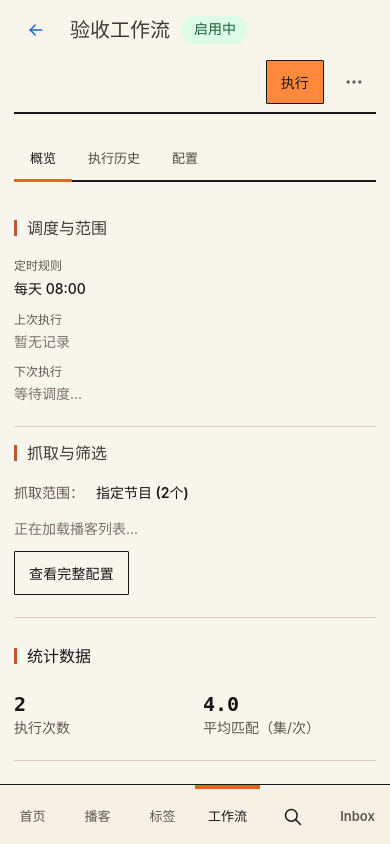
Test: 工作流执行历史可见等待验收 (#34) › 冷态：点击执行历史后首条记录可见，且首屏最多一次摘要请求、无 router 导航
Expected: the text "验收工作流" is shown, [70, 19, 170, 41]
Click the tab "执行历史" at (114, 160), box [72, 138, 156, 182]
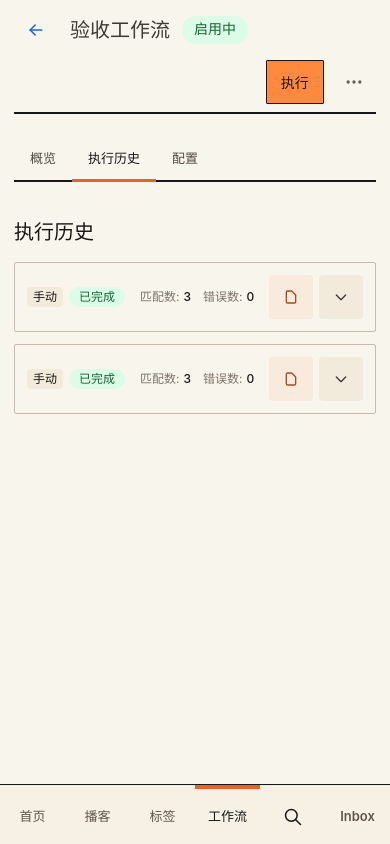
Now the 1st text "匹配数:" is shown, box [140, 289, 179, 304]
